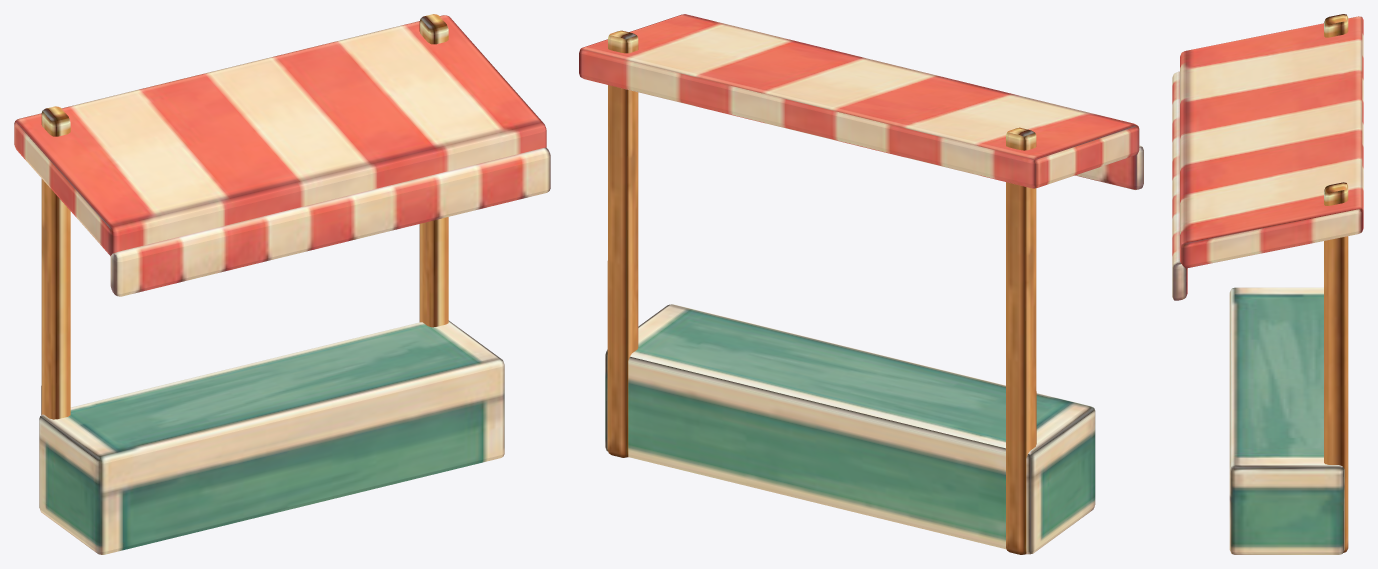
The model's file is market_stall.glb.
3 renders of one model, left to right at view 1: azimuth 30°, elevation 25°; view 2: azimuth 150°, elevation 25°; view 3: azimuth 270°, elevation 25°, orthographic. The views are drawn at different scales.
Parts seen in each view (by area): view 1: market_stall; view 2: market_stall; view 3: market_stall.
Boxes of the visible parts, bbox=[...] form: market_stall: bbox=[14, 14, 550, 554]; market_stall: bbox=[579, 14, 1143, 554]; market_stall: bbox=[1172, 14, 1363, 554].
Size of the model in its own units: 3 by 2.63 by 1.25.
Materials: 1 (1 with a texture image).
